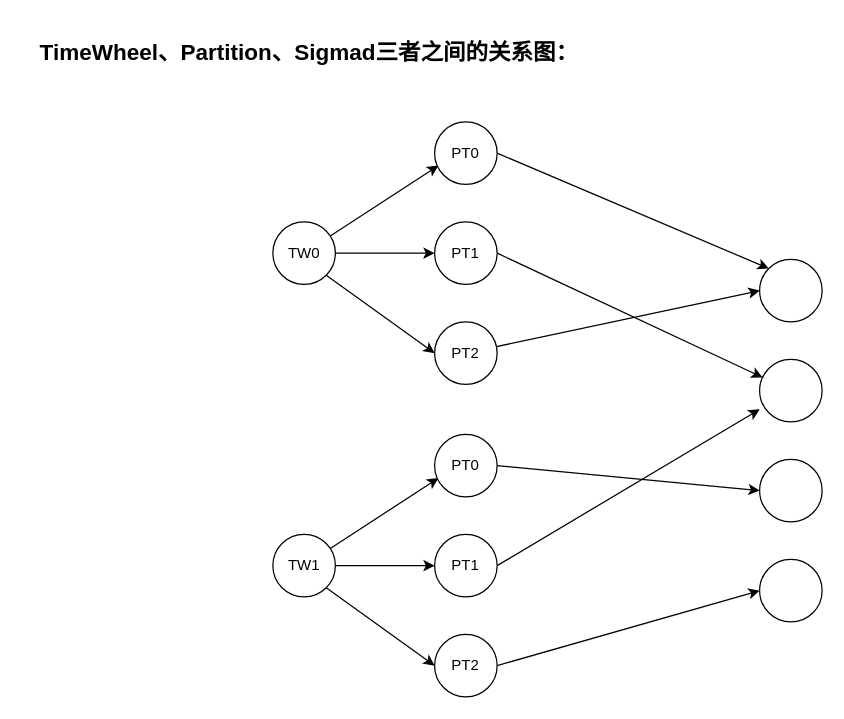
Some shapes in this 844 by 719 pixel diagram are drawn without their labels. The centre of each missing label's shape, as x and y in pixels:
SD0: (x=790, y=290)
SD1: (x=790, y=390)
SD2: (x=790, y=490)
SD3: (x=790, y=590)
